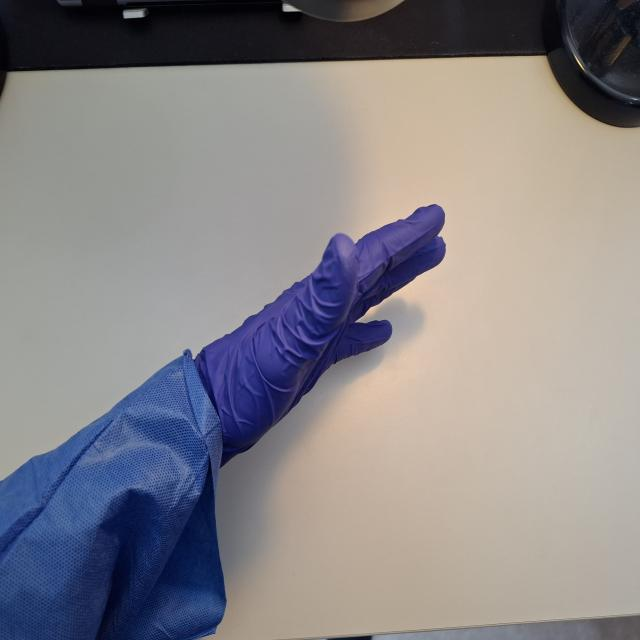glove_on: (187, 200, 449, 472)
